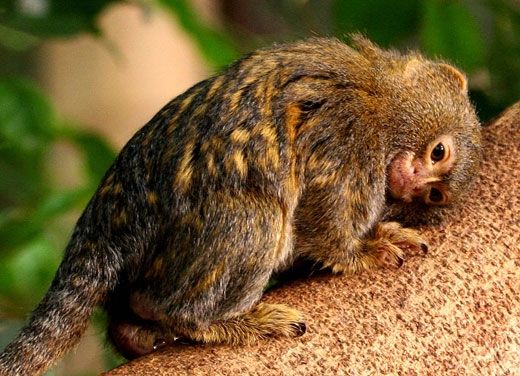PygmyMarmoset: (43, 35, 488, 339)
